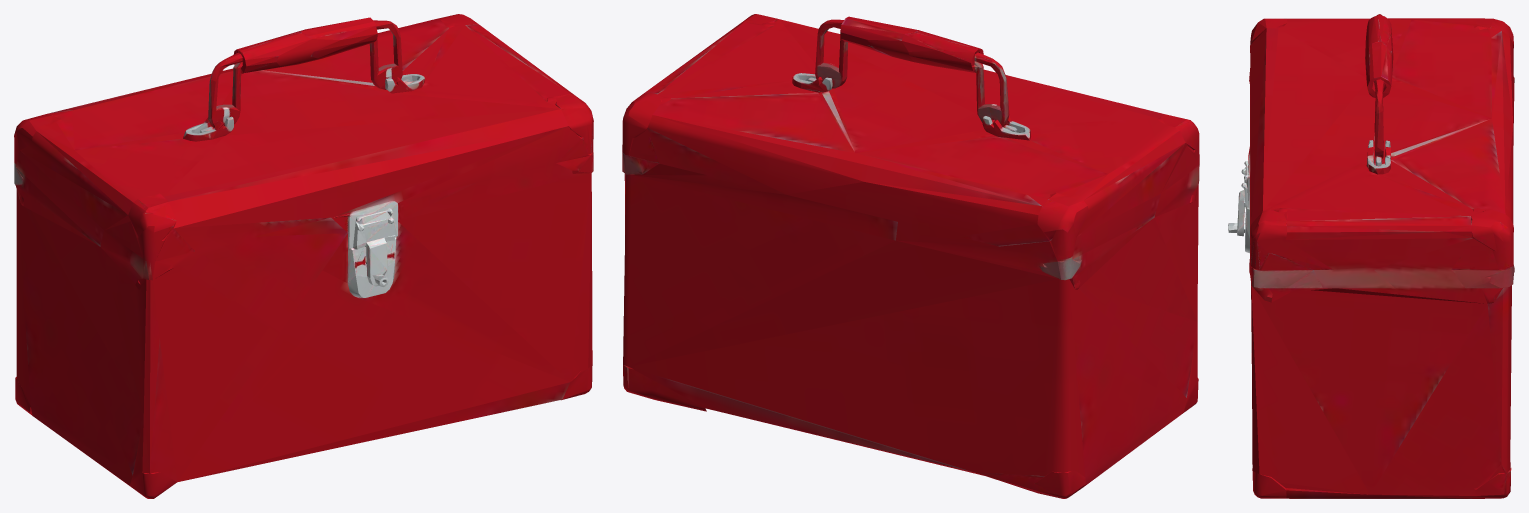
File: toolbox.glb
3 views of the same model, side by side, from view 1: azimuth 30°, elevation 25°; view 2: azimuth 150°, elevation 25°; view 3: azimuth 270°, elevation 25° (orthographic). The views are drawn at different scales.
Bounding box in the file's own units: 1.9 × 1.48 × 1.09.
Materials: 1 (1 with a texture image).
